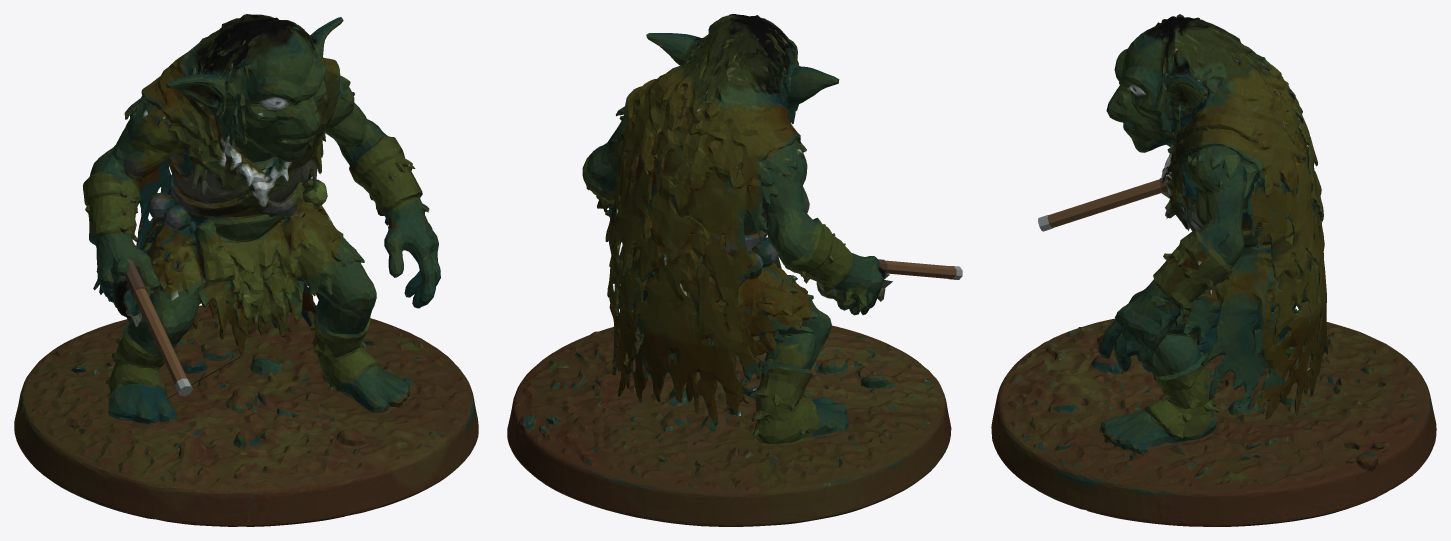
The model's file is goblinCombatente_bordao_sem_escudo.glb.
The picture shows the model from 3 angles, left to right: view 1: azimuth 30°, elevation 25°; view 2: azimuth 150°, elevation 25°; view 3: azimuth 270°, elevation 25°; orthographic projection. The views are drawn at different scales.
Parts seen in each view (by area): view 1: goblinCombatente_bordao_sem_escudo; view 2: goblinCombatente_bordao_sem_escudo; view 3: goblinCombatente_bordao_sem_escudo.
Boxes of the visible parts, box(x1,y1,x2,y2) form: goblinCombatente_bordao_sem_escudo: box(14, 14, 478, 526); goblinCombatente_bordao_sem_escudo: box(507, 14, 962, 526); goblinCombatente_bordao_sem_escudo: box(991, 14, 1436, 526).
Size of the model in its own units: 1.94 by 1.96 by 1.91.
Materials: 4 (1 with a texture image).
